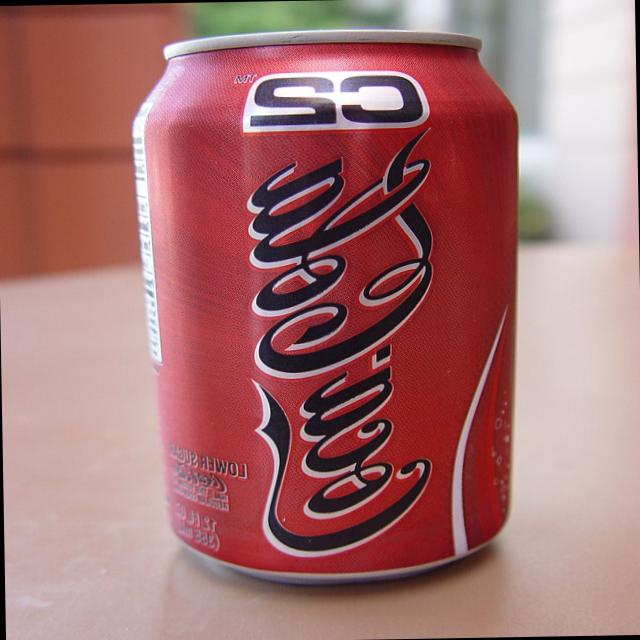cocacola: (108, 26, 552, 596)
